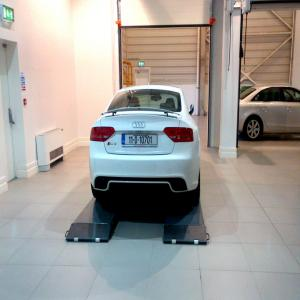Vehicle-registration-plate: (123, 135, 158, 147)
